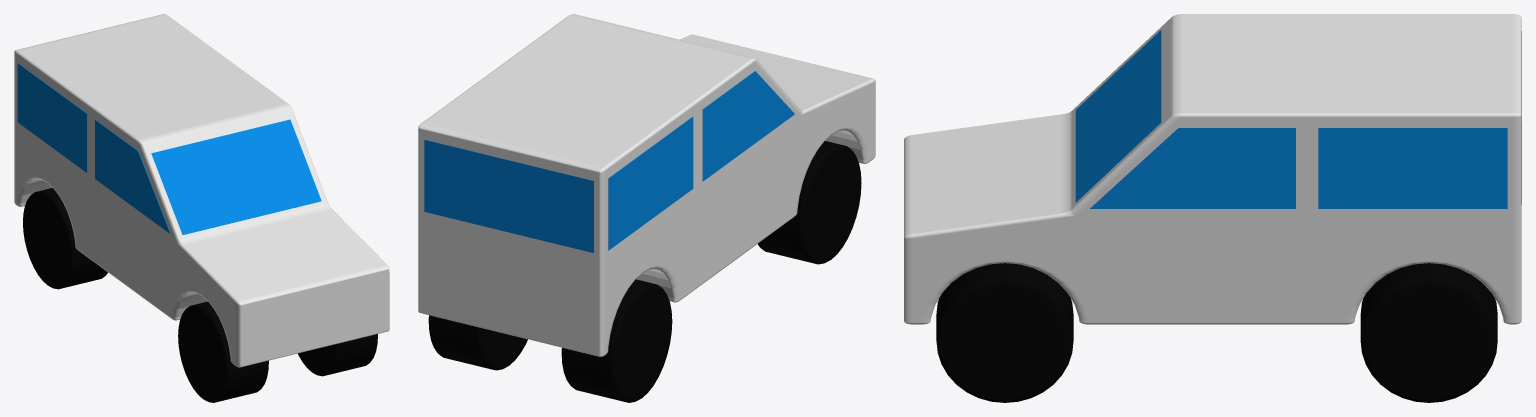
Rendered from CarModel.fbx.
The picture shows the model from 3 angles, left to right: view 1: azimuth 30°, elevation 25°; view 2: azimuth 150°, elevation 25°; view 3: azimuth 270°, elevation 25°; orthographic projection. The views are drawn at different scales.
Visible parts, largest first — view 1: CarBody, FrontWindow, WheelRightFront, WheelRightRear, WindowRearRight, WindowFrontRight, WheelLeftFront; view 2: CarBody, WindowRear, WheelRightRear, WheelRightFront, WindowRearRight, WindowFrontRight, WheelLeftRear; view 3: CarBody, WheelLeftFront, WheelLeftRear, WindowRearLeft, WindowFrontRight.001, FrontWindow.
Boxes of the visible parts, x1,y1,x2,y2 form: CarBody: (14,14,389,367); FrontWindow: (151,119,321,234); WheelRightFront: (178,301,268,402); WheelRightRear: (23,188,107,289); WindowRearRight: (17,63,87,172); WindowFrontRight: (95,119,170,234); WheelLeftFront: (298,334,377,376); CarBody: (418,14,875,356); WindowRear: (424,139,593,252); WheelRightRear: (561,279,672,402); WheelRightFront: (758,141,861,264); WindowRearRight: (608,116,693,250); WindowFrontRight: (702,71,794,181); WheelLeftRear: (428,315,527,370); CarBody: (904,14,1521,324); WheelLeftFront: (936,263,1073,402); WheelLeftRear: (1360,263,1497,402); WindowRearLeft: (1318,128,1507,208); WindowFrontRight.001: (1090,128,1295,208); FrontWindow: (1075,30,1161,202).
Size of the model in its own units: 351 by 466 by 900.
